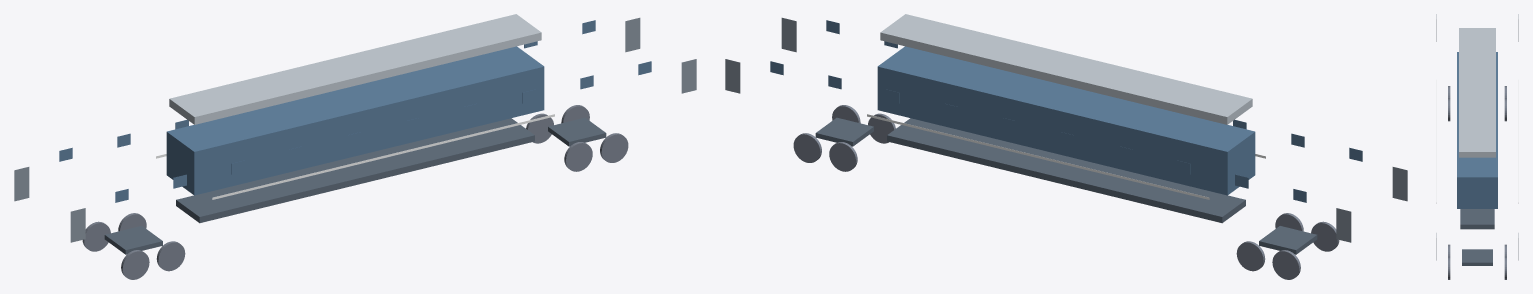
The model's file is LHB_AC3Tier.glb.
3 renders of one model, left to right at view 1: azimuth 30°, elevation 25°; view 2: azimuth 150°, elevation 25°; view 3: azimuth 270°, elevation 25°, orthographic. The views are drawn at different scales.
Visible parts, largest first — view 1: LHB_AC3Tier; view 2: LHB_AC3Tier; view 3: LHB_AC3Tier.
Part boxes in pixels (<box>): LHB_AC3Tier: <box>14,14,696,279</box>; LHB_AC3Tier: <box>725,14,1407,279</box>; LHB_AC3Tier: <box>1436,14,1518,279</box>.
Size of the model in its own units: 21.04 by 4.53 by 3.29.
